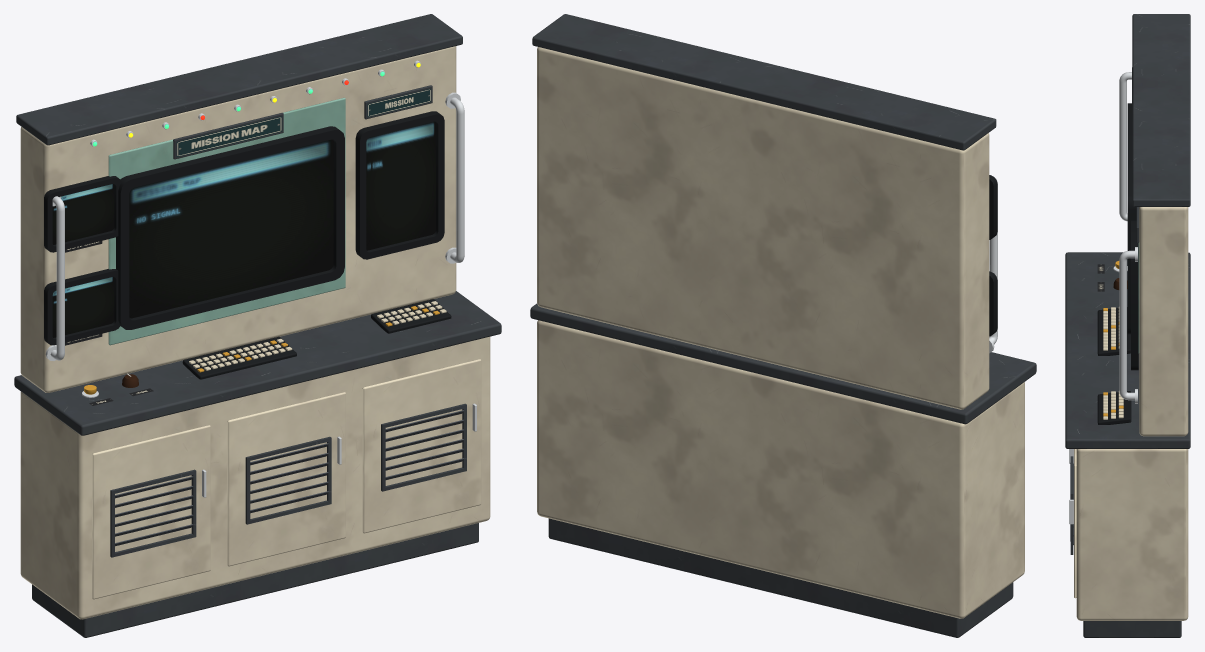
Rendered from MissionWall.glb.
The picture shows the model from 3 angles, left to right: view 1: azimuth 30°, elevation 25°; view 2: azimuth 150°, elevation 25°; view 3: azimuth 270°, elevation 25°; orthographic projection. The views are drawn at different scales.
Visible parts, largest first — view 1: MissionWall_Body; view 2: MissionWall_Body; view 3: MissionWall_Body.
Boxes of the visible parts, x1=… form: MissionWall_Body: x1=14, y1=14, x2=501, y2=637; MissionWall_Body: x1=530, y1=14, x2=1036, y2=637; MissionWall_Body: x1=1065, y1=14, x2=1190, y2=637.
Bounding box in the file's own units: 1.99 × 2.19 × 0.56.
22 materials, 15 textured.
